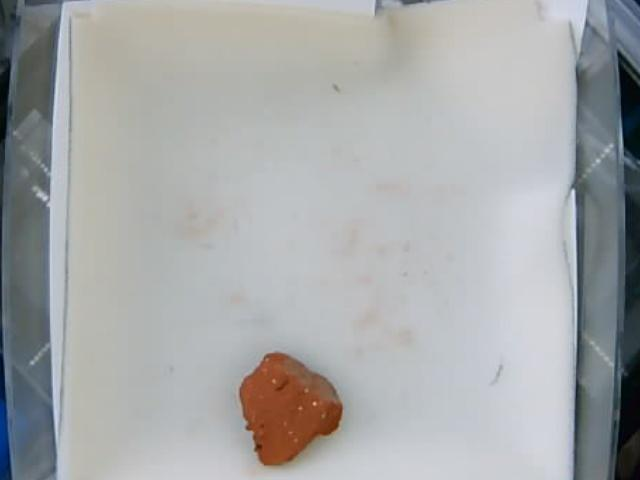Brisk: (238, 351, 342, 467)
